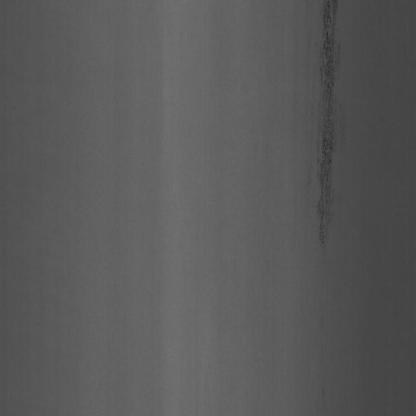inclusion: (306, 0, 360, 269)
